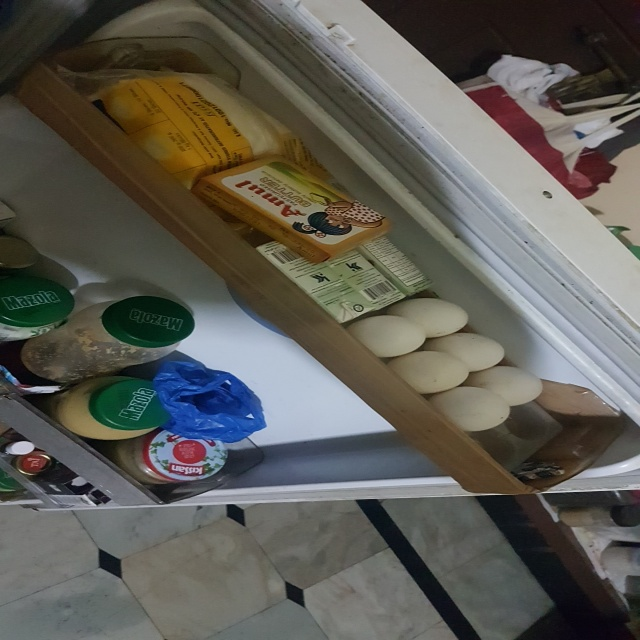butter: (198, 153, 399, 256)
eggs: (419, 384, 510, 435), (386, 292, 475, 341), (348, 308, 427, 356), (392, 348, 469, 396), (427, 331, 507, 372), (466, 367, 546, 408)
